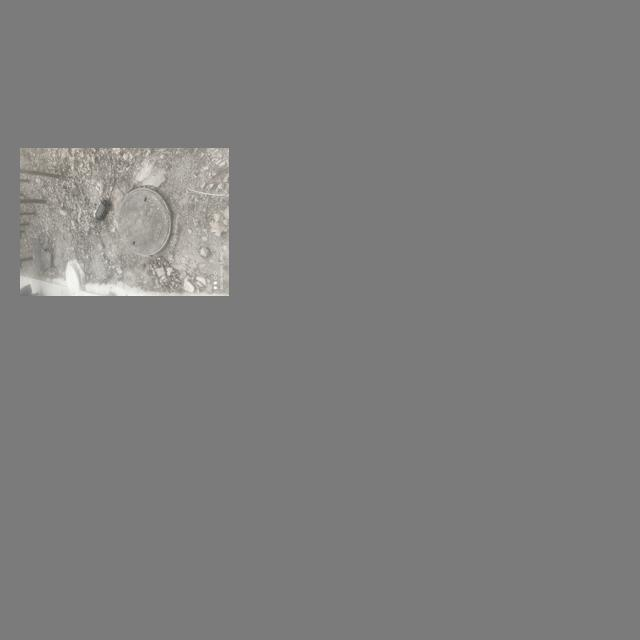good: (117, 187, 172, 255)
